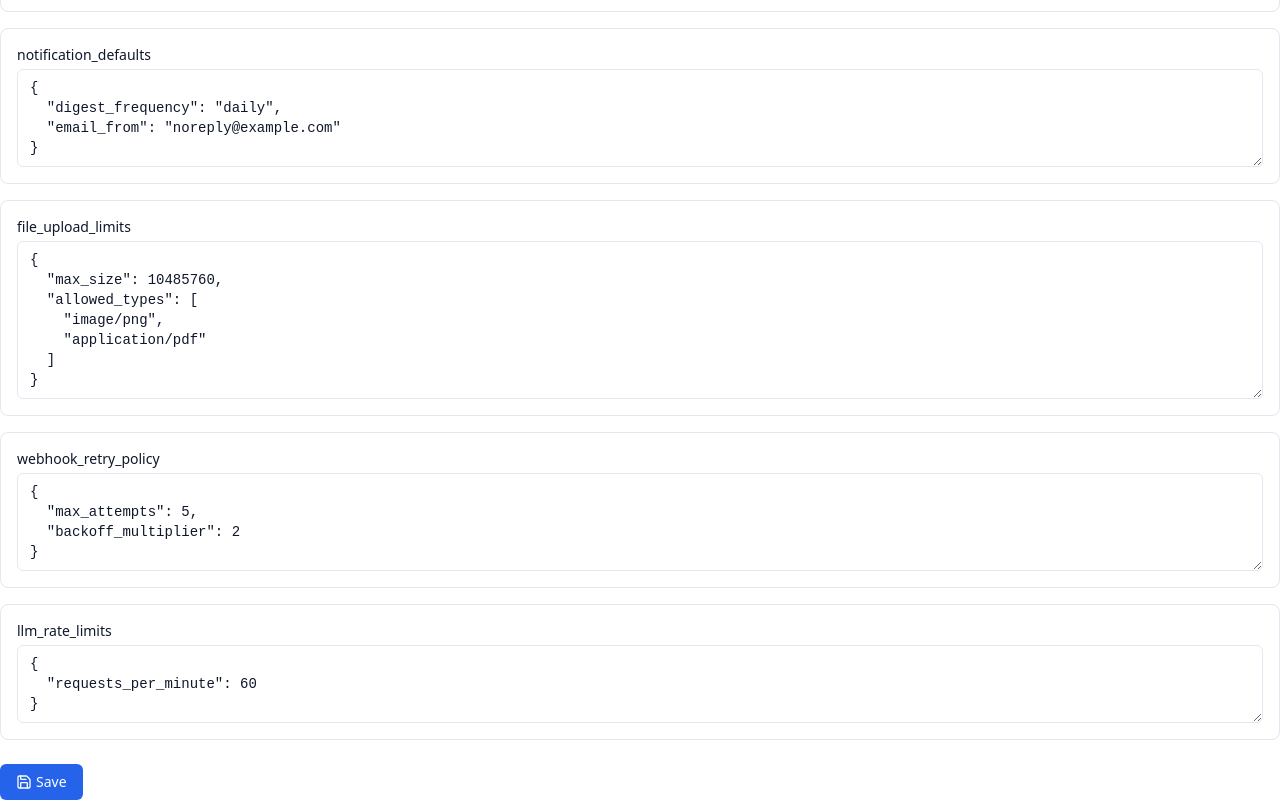
Scenario: SystemSettings › shows success toast after save
The image size is (1280, 800).
(page scrolled)
What coordinates should you click on to do the following:
click the button with test id "settings-save-btn"
I would click on:
 (41, 782)
Its box is [0,764,83,799].
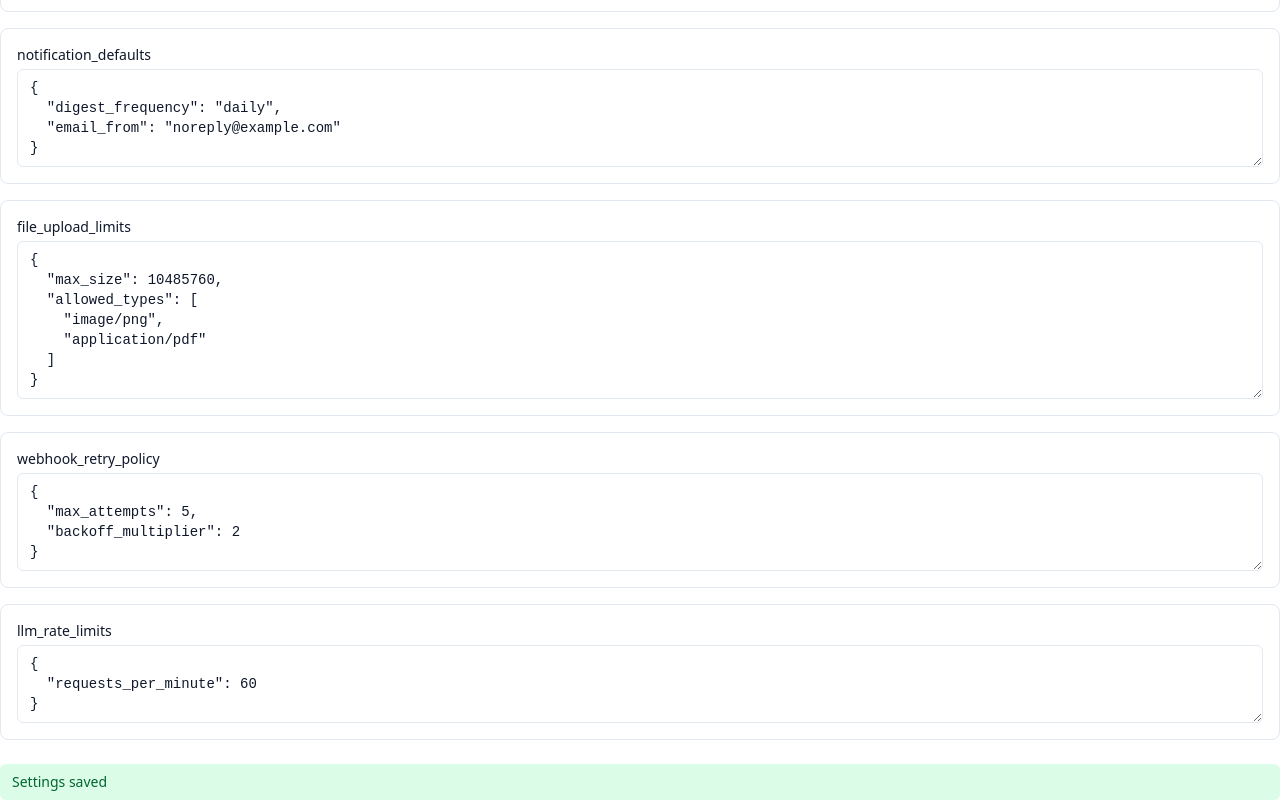
Now the text with test id "settings-toast" reads "Settings saved", box [12,772,107,791]
